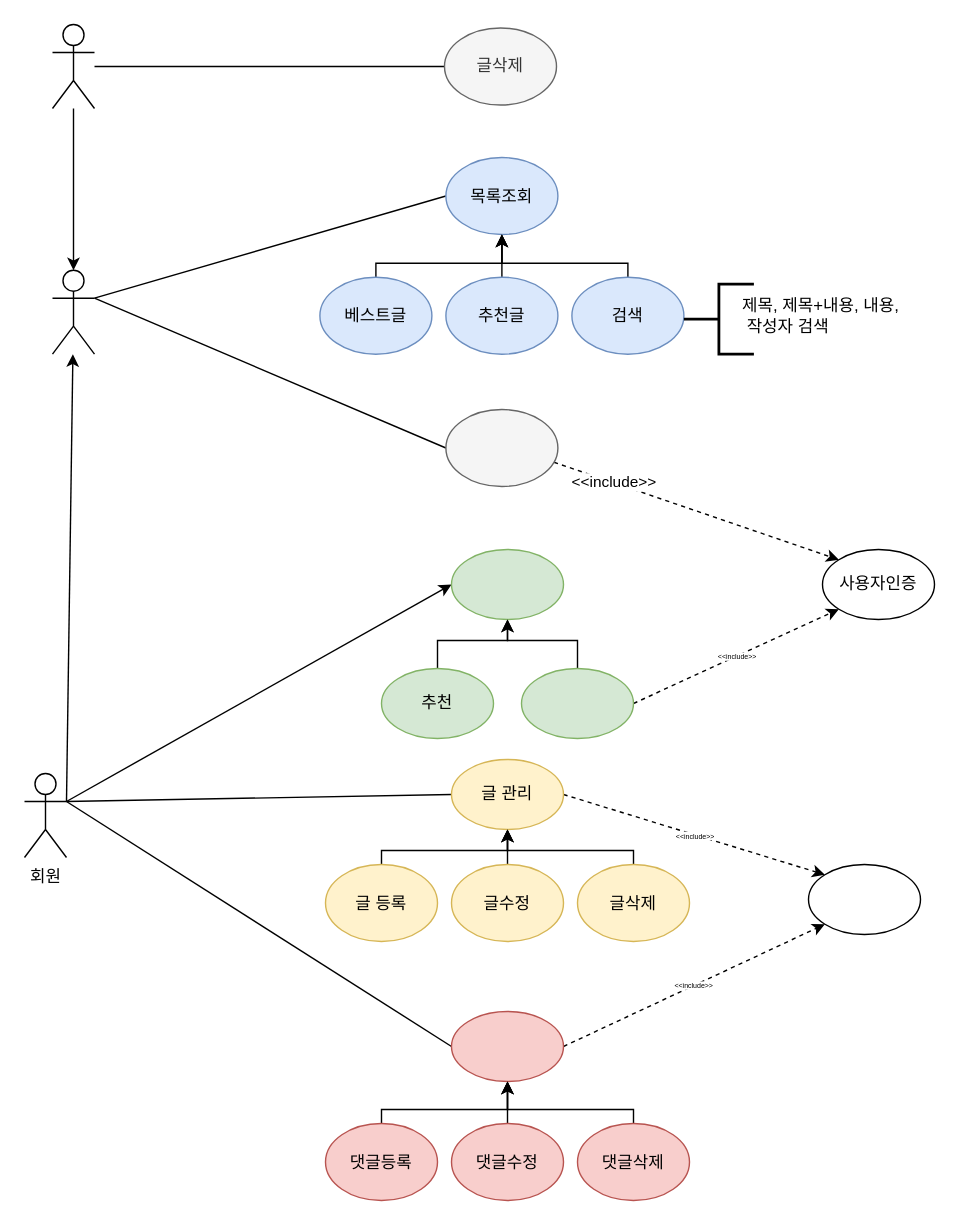
This 974x1225 diagram has some shape labels left out. Each missing label, with the centre of its shape:
관리자: the point at 72,65
댓글관리: the point at 507,1046
로그인: the point at 501,447
사용자: the point at 72,311
사용자확인: the point at 863,898
상세조회: the point at 507,584
신고: the point at 577,702
